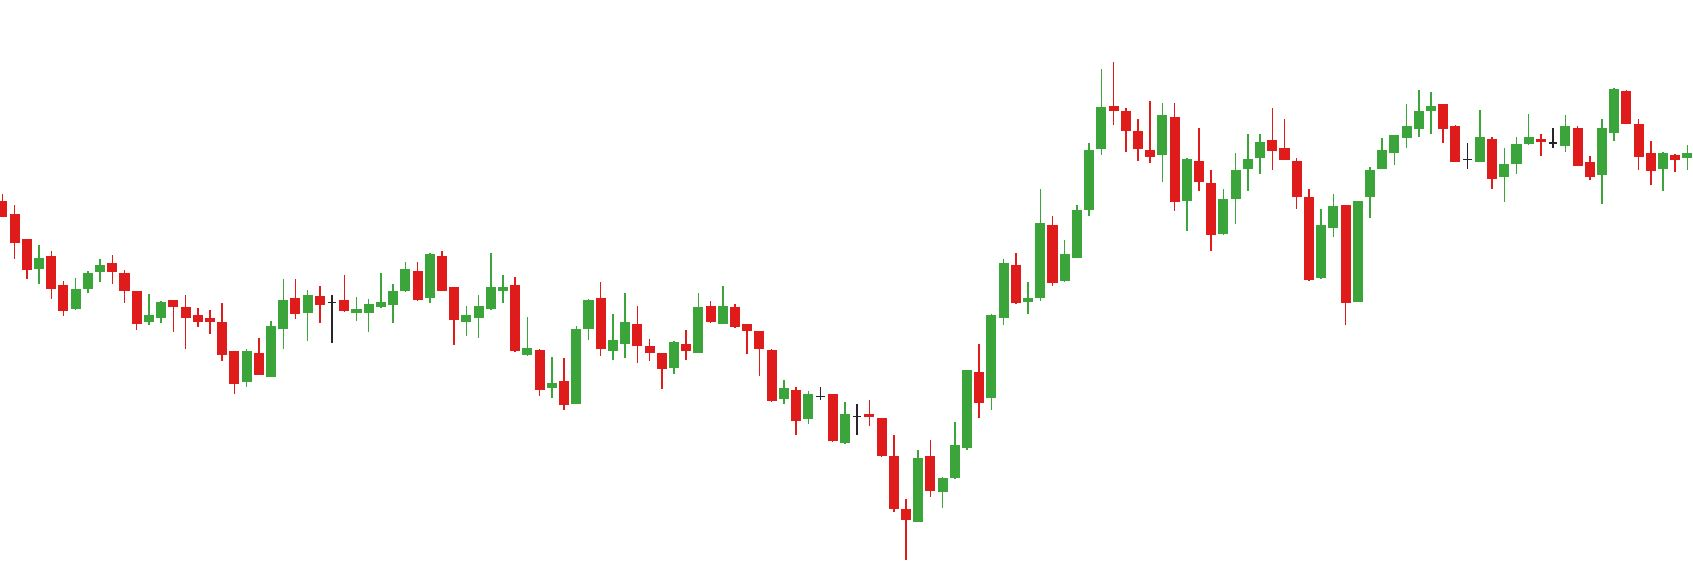buy: (1201, 162, 1329, 288)
sell: (1521, 90, 1634, 167)
